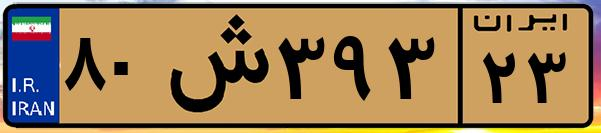0: (110, 28, 158, 98)
2: (475, 38, 525, 113)
3: (270, 28, 330, 110), (385, 28, 445, 110), (525, 38, 570, 115)
8: (57, 26, 110, 100)
9: (330, 28, 385, 110)
ش: (158, 12, 270, 120)
